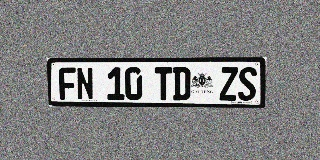0: (125, 67, 142, 100)
1: (107, 67, 124, 100)
D: (173, 67, 190, 100)
F: (59, 67, 76, 100)
N: (76, 67, 94, 100)
S: (238, 67, 257, 101)
T: (155, 67, 172, 100)
Z: (219, 67, 238, 101)
